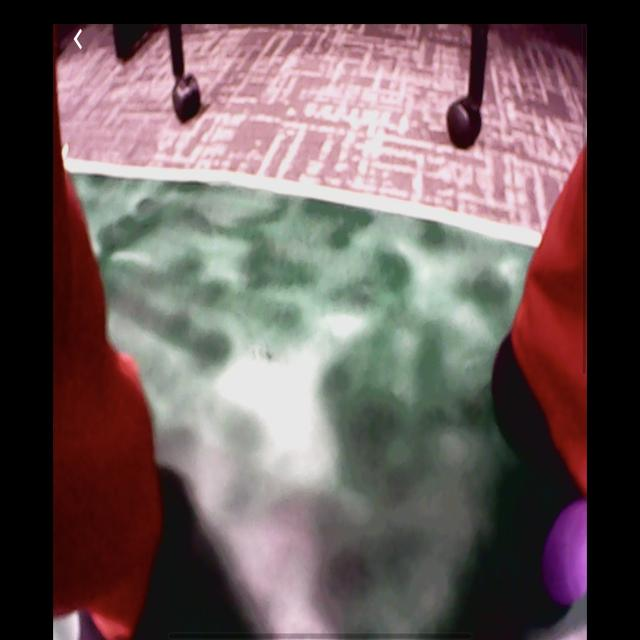ball: (544, 501, 587, 610)
